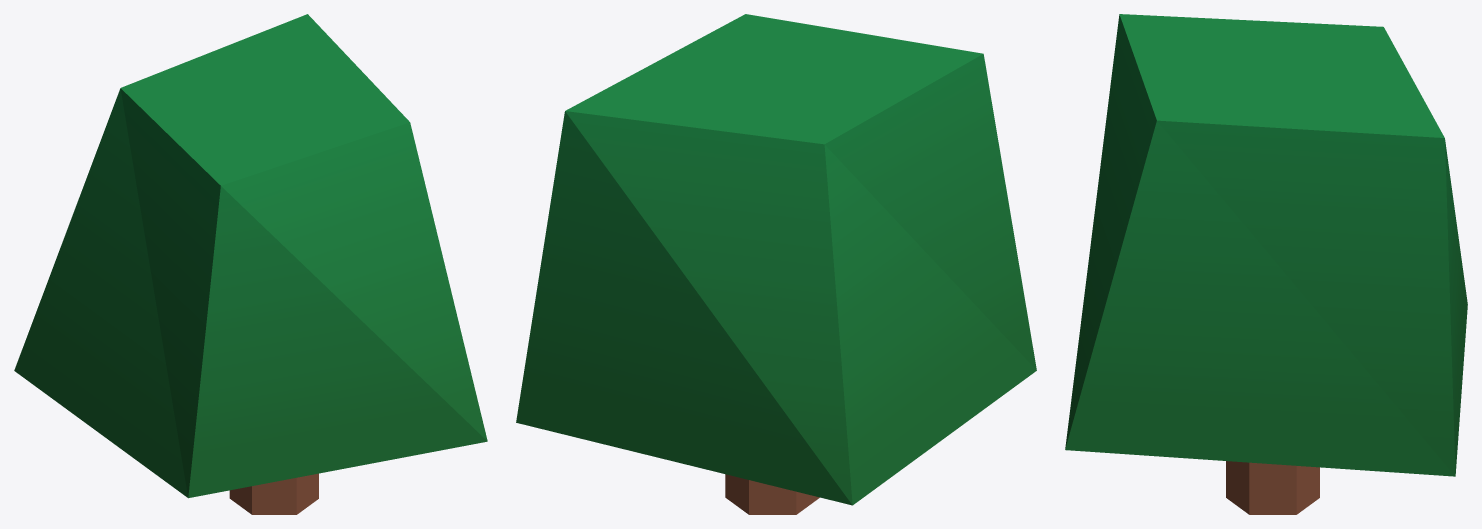
File: Bush_11_gradient_green.fbx
The picture shows the model from 3 angles, left to right: view 1: azimuth 30°, elevation 25°; view 2: azimuth 150°, elevation 25°; view 3: azimuth 270°, elevation 25°; orthographic projection. The views are drawn at different scales.
Parts seen in each view (by area): view 1: Bush_11_gradient_green; view 2: Bush_11_gradient_green; view 3: Bush_11_gradient_green.
Boxes of the visible parts, x1,y1,x2,y2 form: Bush_11_gradient_green: [14, 14, 487, 514]; Bush_11_gradient_green: [516, 14, 1036, 514]; Bush_11_gradient_green: [1065, 14, 1467, 514].
Bounding box in the file's own units: 50.88 × 59.59 × 51.95.
